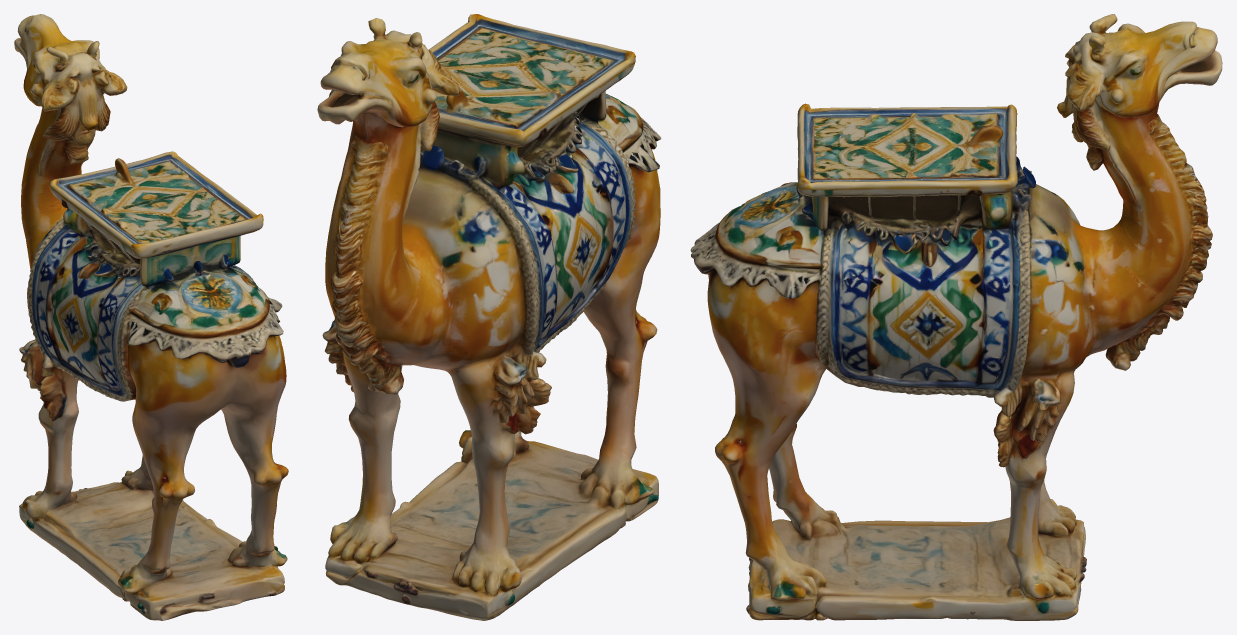
File: camel.glb
The picture shows the model from 3 angles, left to right: view 1: azimuth 30°, elevation 25°; view 2: azimuth 150°, elevation 25°; view 3: azimuth 270°, elevation 25°; orthographic projection. The views are drawn at different scales.
Visible parts, largest first — view 1: node_448d384e-b5c1-444a-bcbe-55d380fc0835; view 2: node_448d384e-b5c1-444a-bcbe-55d380fc0835; view 3: node_448d384e-b5c1-444a-bcbe-55d380fc0835.
Boxes of the visible parts, left/top/right/bottom form: node_448d384e-b5c1-444a-bcbe-55d380fc0835: left=14, top=14, right=288, bottom=620; node_448d384e-b5c1-444a-bcbe-55d380fc0835: left=317, top=14, right=661, bottom=620; node_448d384e-b5c1-444a-bcbe-55d380fc0835: left=690, top=14, right=1222, bottom=620.
Size of the model in its own units: 0.3605 by 1 by 0.8636.
1 material, 1 textured.
